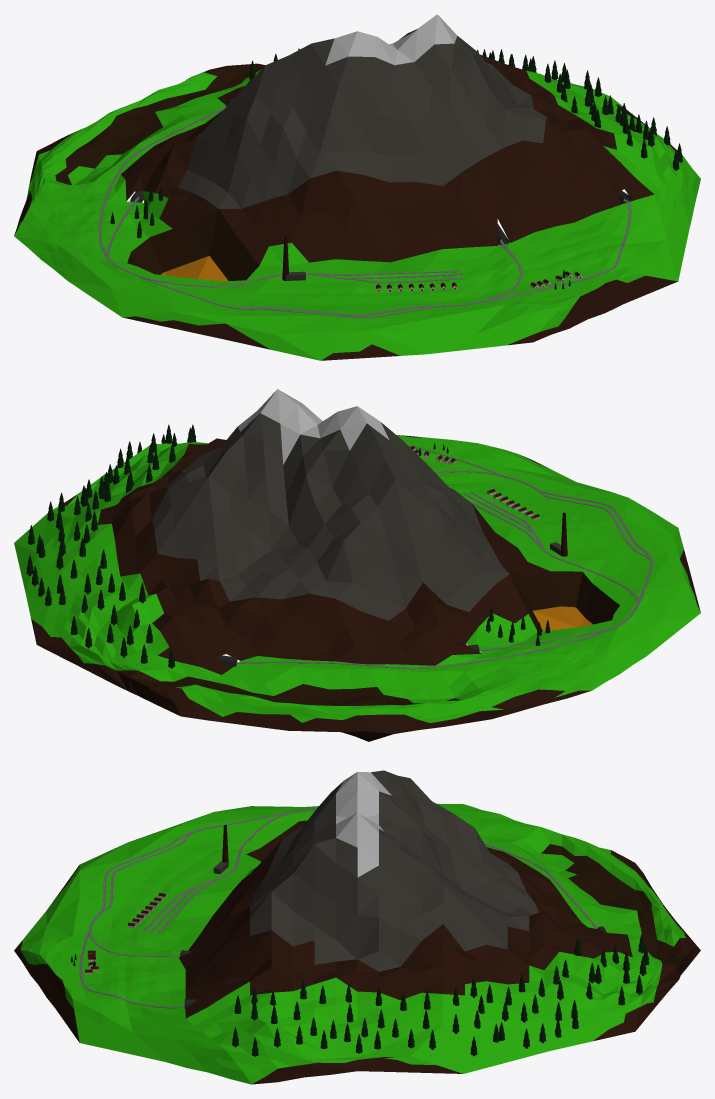
The model's file is mountian6.obj.
The picture shows the model from 3 angles, top to bottom: view 1: azimuth 30°, elevation 25°; view 2: azimuth 150°, elevation 25°; view 3: azimuth 270°, elevation 25°; orthographic projection. The views are drawn at different scales.
Parts seen in each view (by area): view 1: Icosphere.001, BezierCurve, BezierCircle.003, BezierCurve.003_BezierCurve.001, BezierCurve.004_BezierCurve.003; view 2: Icosphere.001, BezierCurve, BezierCircle.003, BezierCurve.003_BezierCurve.001; view 3: Icosphere.001, BezierCircle.003, BezierCurve.
Part boxes in pixels (left/top/right/bottom): Icosphere.001: left=14, top=14, right=700, bottom=360; BezierCurve: left=106, top=198, right=522, bottom=315; BezierCircle.003: left=139, top=270, right=464, bottom=287; BezierCurve.003_BezierCurve.001: left=98, top=107, right=225, bottom=257; BezierCurve.004_BezierCurve.003: left=480, top=202, right=631, bottom=303; Icosphere.001: left=14, top=389, right=700, bottom=741; BezierCurve: left=435, top=470, right=653, bottom=651; BezierCircle.003: left=463, top=491, right=639, bottom=605; BezierCurve.003_BezierCurve.001: left=236, top=626, right=615, bottom=669; Icosphere.001: left=14, top=770, right=700, bottom=1084; BezierCircle.003: left=141, top=811, right=296, bottom=933; BezierCurve: left=89, top=808, right=316, bottom=956.
Bounding box in the file's own units: 183 × 58.75 × 192.
